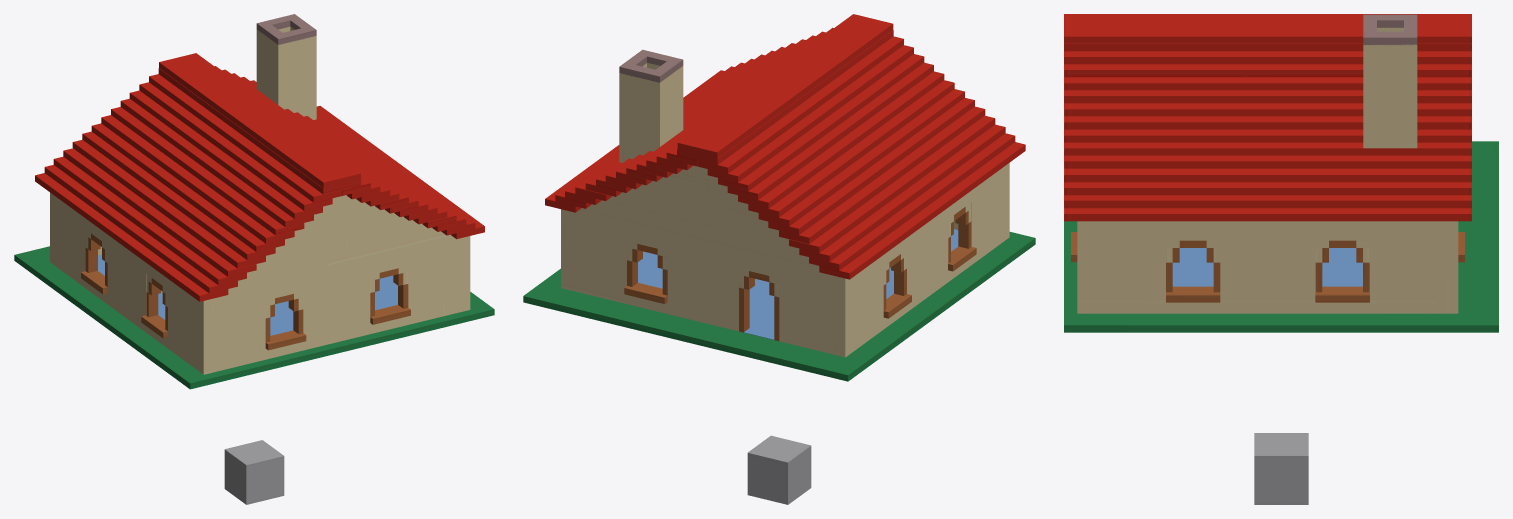
Rendered from roblox_classic_house.glb.
3 renders of one model, left to right at view 1: azimuth 30°, elevation 25°; view 2: azimuth 150°, elevation 25°; view 3: azimuth 270°, elevation 25°, orthographic. The views are drawn at different scales.
Visible parts, largest first — view 1: Object_2; view 2: Object_2; view 3: Object_2.
Part boxes in pixels (x1,y1,x2,y2): Object_2: (14,14,494,504); Object_2: (523,14,1035,504); Object_2: (1064,14,1498,504).
Bounding box in the file's own units: 80.23 × 104 × 80.23.
Materials: 1 (1 with a texture image).
